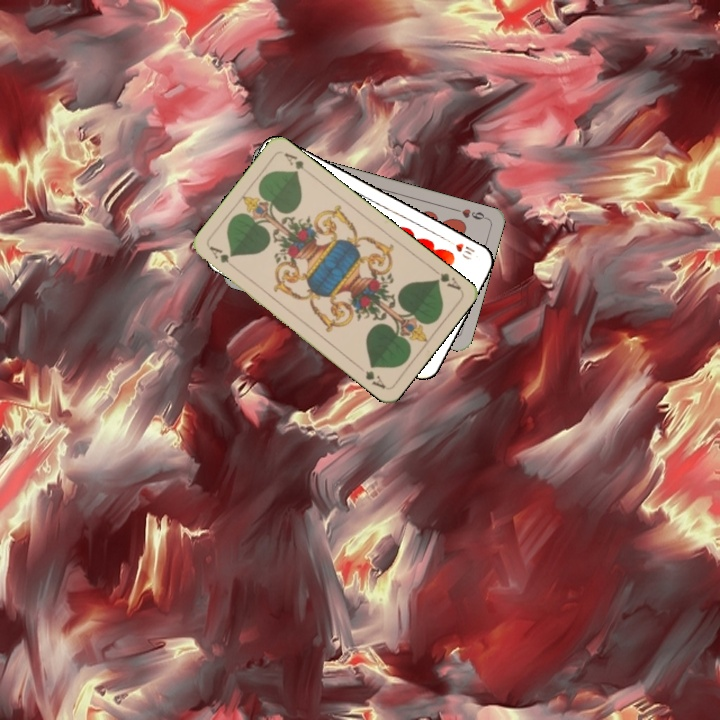GA: (205, 242, 239, 273), (428, 264, 464, 293)
H10: (443, 235, 477, 263)
H9: (449, 204, 489, 222)
